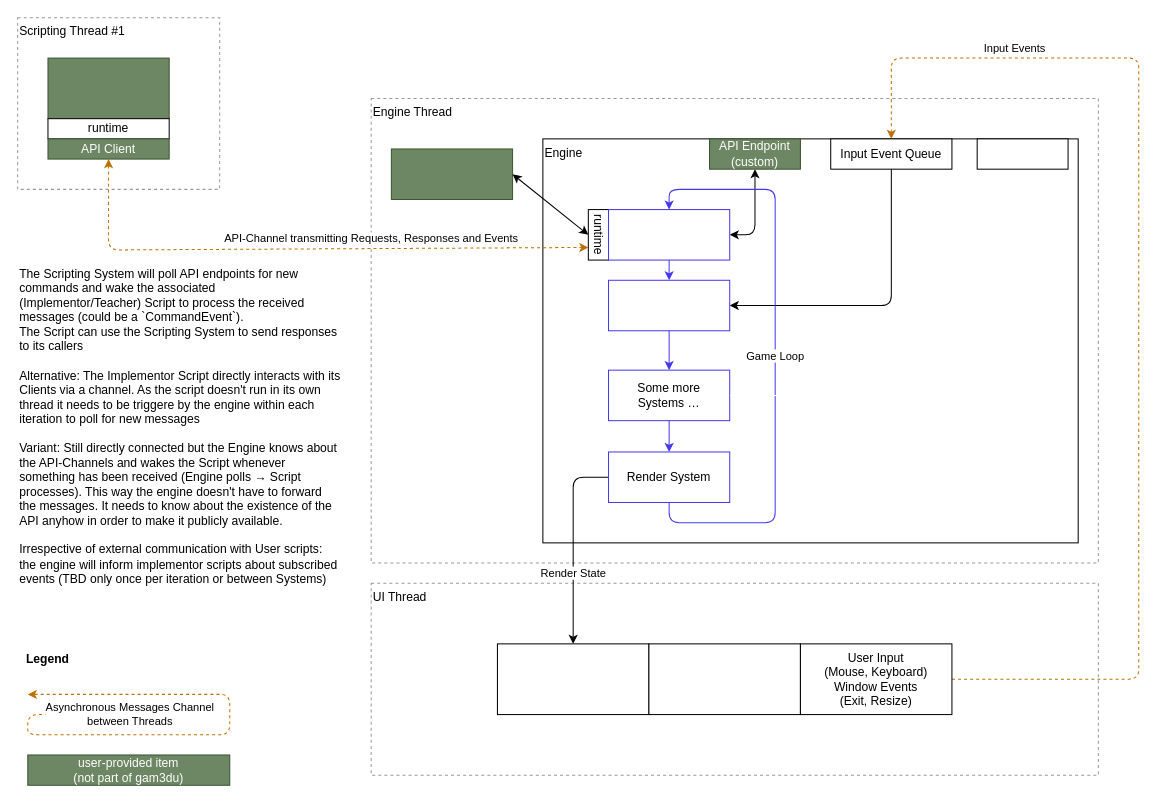
This 1165x803 diagram has some shape labels left out. Each missing label, with the centre of its shape:
"API Server (built-in)" belongs at (x=1022, y=153).
"Implementor/Teacher Script (call-back)" belongs at (x=451, y=173).
"Input System" belongs at (x=669, y=305).
"Renderer" belongs at (x=572, y=679).
"Scripting System" belongs at (x=669, y=234).
"User/Student Script (blocking)" belongs at (x=108, y=88).
"Window Message Loop" belongs at (x=724, y=679).
